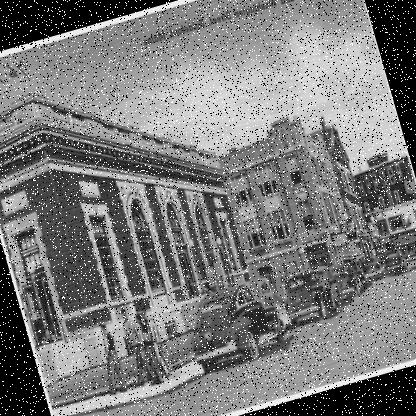Car: (179, 276, 292, 376), (280, 264, 340, 329), (314, 264, 346, 312), (330, 262, 360, 302), (382, 248, 408, 279), (346, 260, 368, 288), (361, 255, 383, 282)
